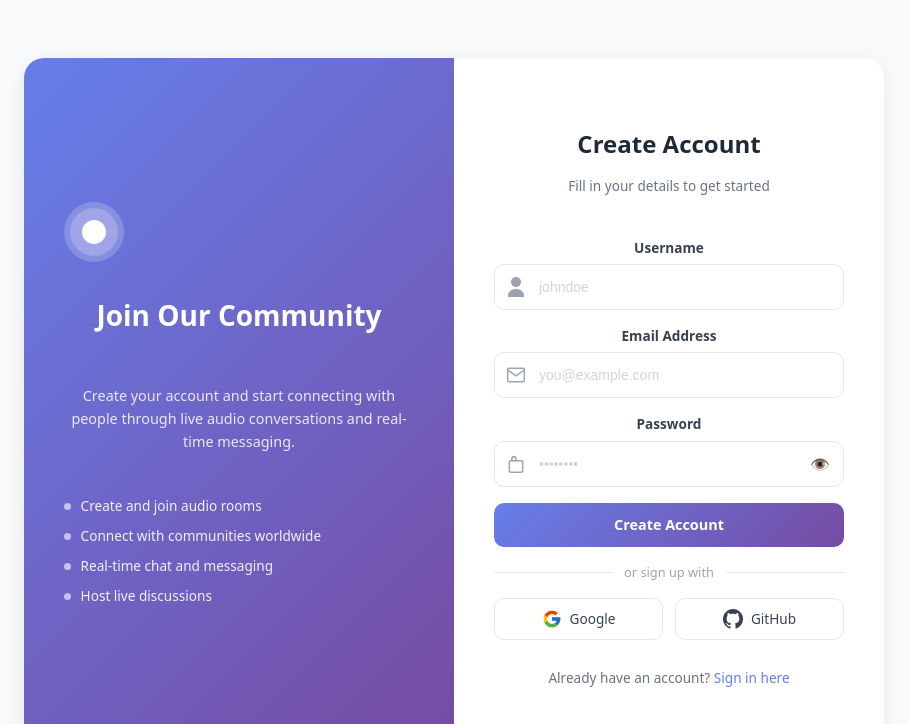
Test: <signup /> › test for username input value
Step 1. Type "he" into the field labelled "Username" → (669, 287), box [494,264,844,310]
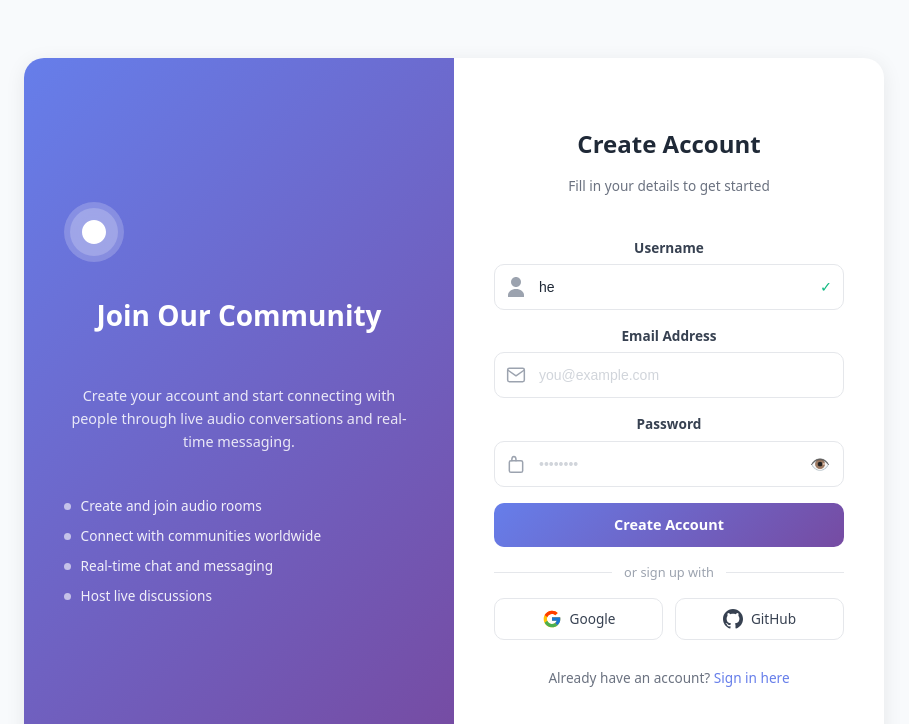
Step 2. Type "nkelechi21@gmail.com" into the field labelled "Email Address" → (669, 375), box [494,352,844,398]
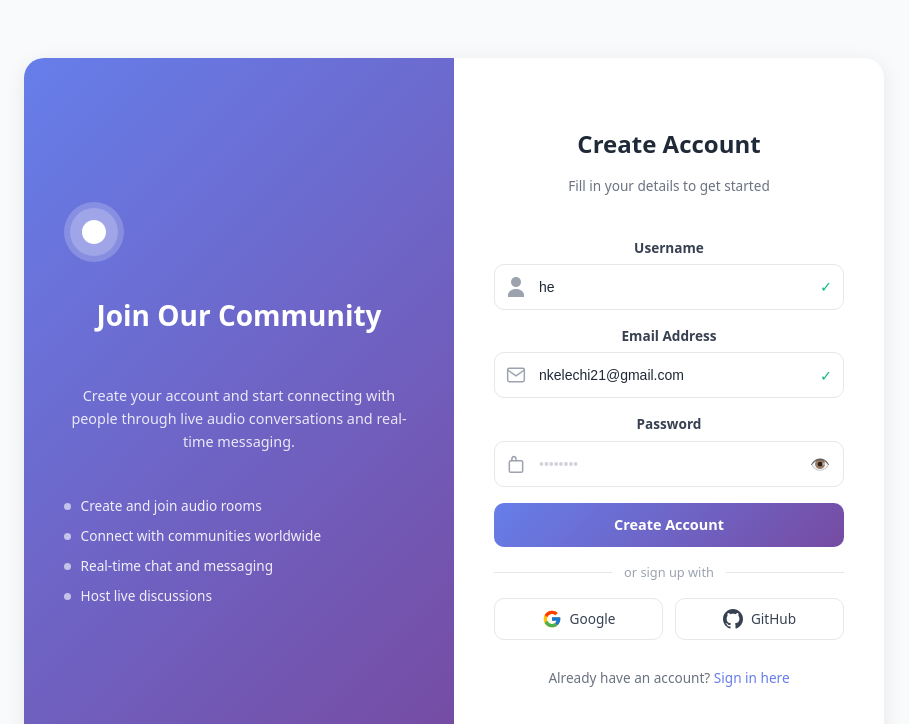
Step 3. Type "Poiuytre101" into the password field labelled "Password" → (669, 464), box [494,441,844,487]
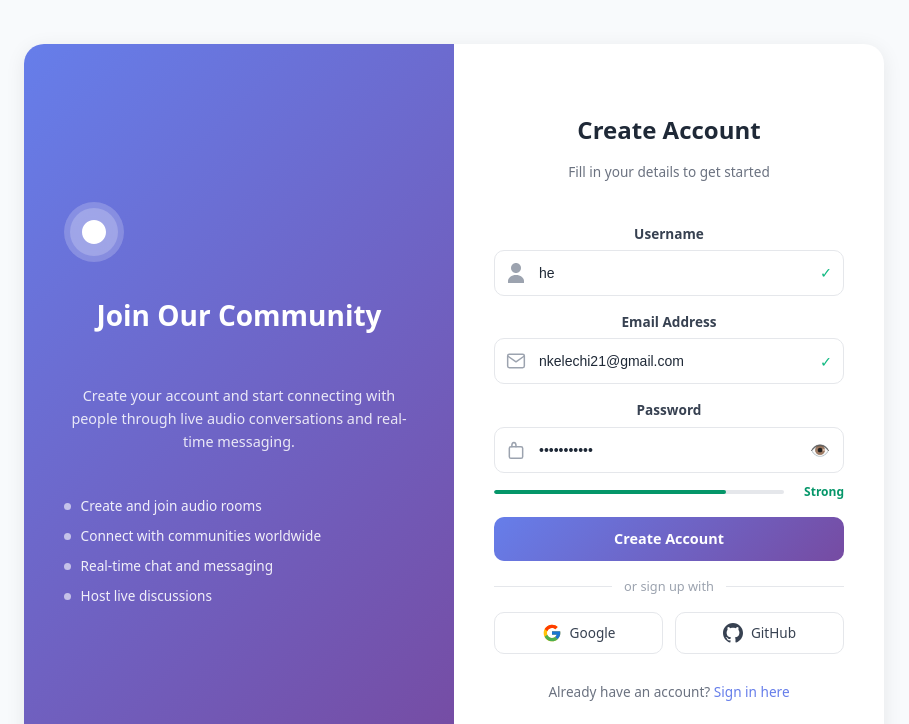
Step 4. Click the button with test id "createaccount" → (669, 539), box [494,517,844,561]
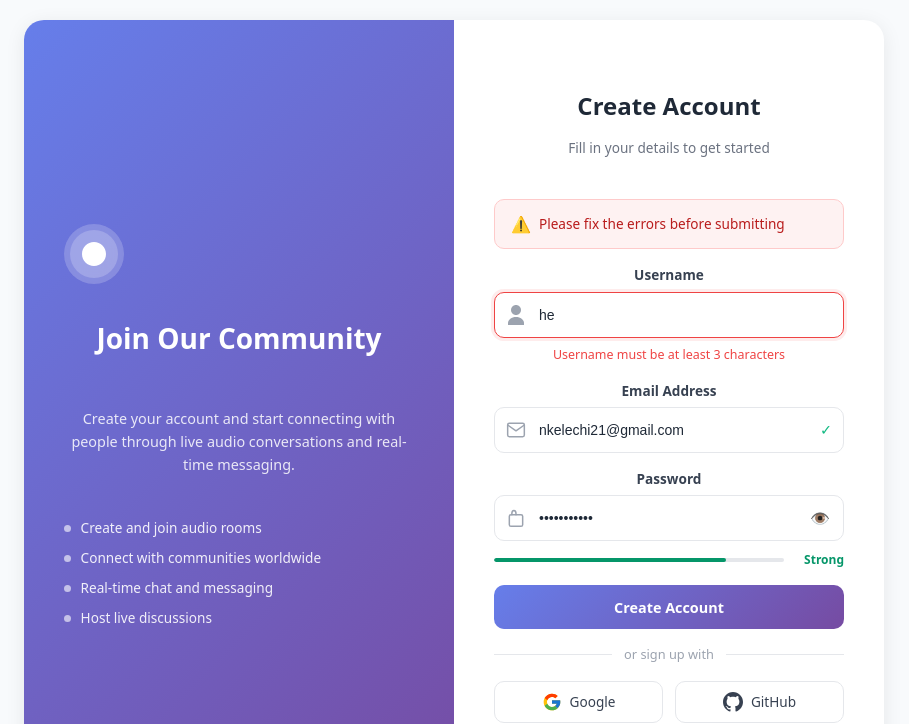
Check: the text with test id "username" reads "Username must be at least 3 characters", box [553,346,785,363]
